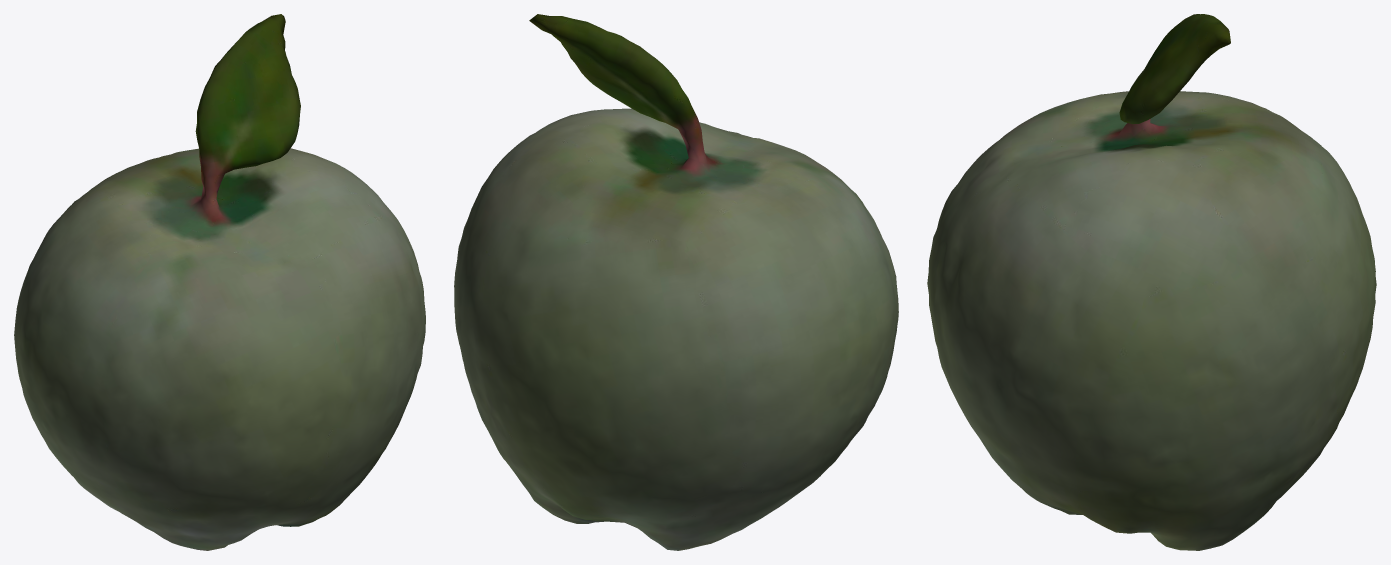
File: The_image_is_a_black_and_white_illustration_of_an_apple_The__0601121108_preview.obj
3 renders of one model, left to right at view 1: azimuth 30°, elevation 25°; view 2: azimuth 150°, elevation 25°; view 3: azimuth 270°, elevation 25°, orthographic. The views are drawn at different scales.
Visible parts, largest first — view 1: Mesh1; view 2: Mesh1; view 3: Mesh1.
Boxes of the visible parts, x1,y1,x2,y2 form: Mesh1: (14, 14, 425, 550); Mesh1: (454, 14, 898, 550); Mesh1: (927, 14, 1376, 550).
Size of the model in its own units: 0.9653 by 1.2 by 0.9232.
Materials: 1 (1 with a texture image).
